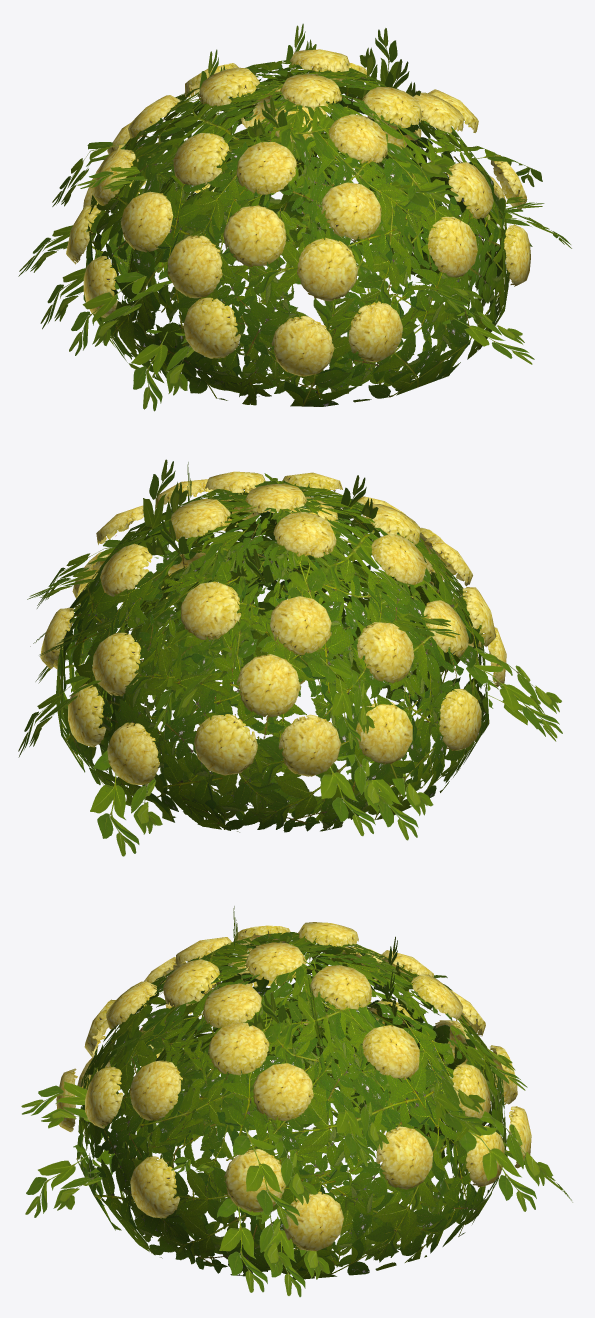
The model's file is NaturePlant03_1.FBX.
3 renders of one model, top to bottom at view 1: azimuth 30°, elevation 25°; view 2: azimuth 150°, elevation 25°; view 3: azimuth 270°, elevation 25°, orthographic.
Visible parts, largest first — view 1: NaturePlant03_1; view 2: NaturePlant03_1; view 3: NaturePlant03_1.
Part boxes in pixels (x1=…): NaturePlant03_1: x1=18, y1=23, x2=571, y2=411; NaturePlant03_1: x1=18, y1=459, x2=562, y2=856; NaturePlant03_1: x1=21, y1=906, x2=572, y2=1297.
Bounding box in the file's own units: 0.524 × 0.2749 × 0.4961.
